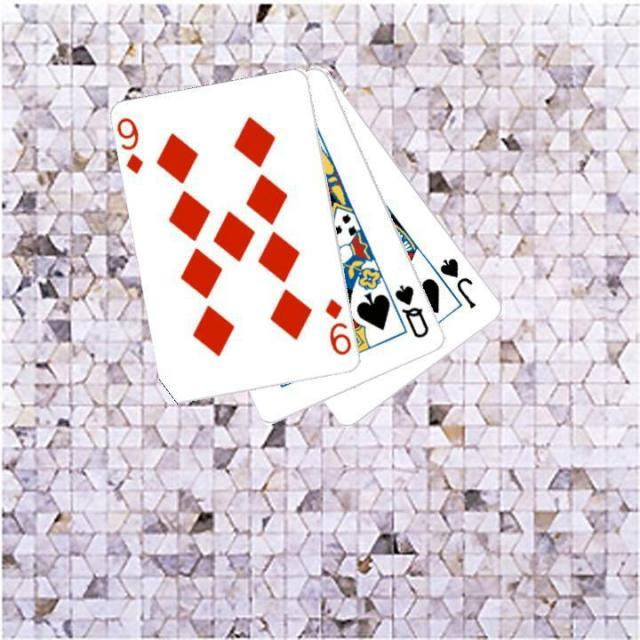9D: (321, 295, 353, 357), (115, 114, 146, 176)
JS: (436, 254, 478, 311)
QS: (391, 280, 431, 340)
